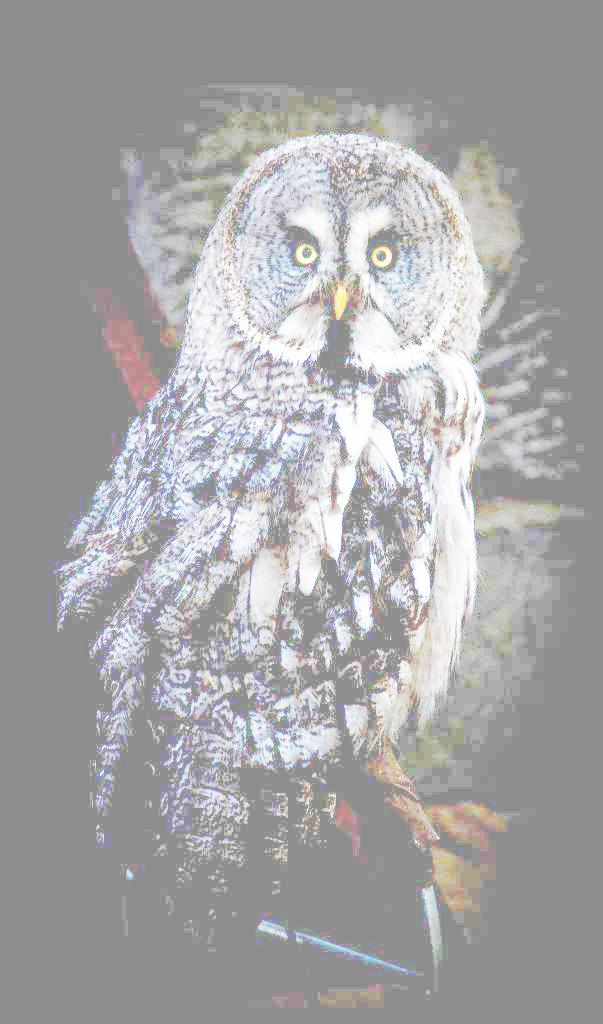Owl: (44, 133, 496, 962)
